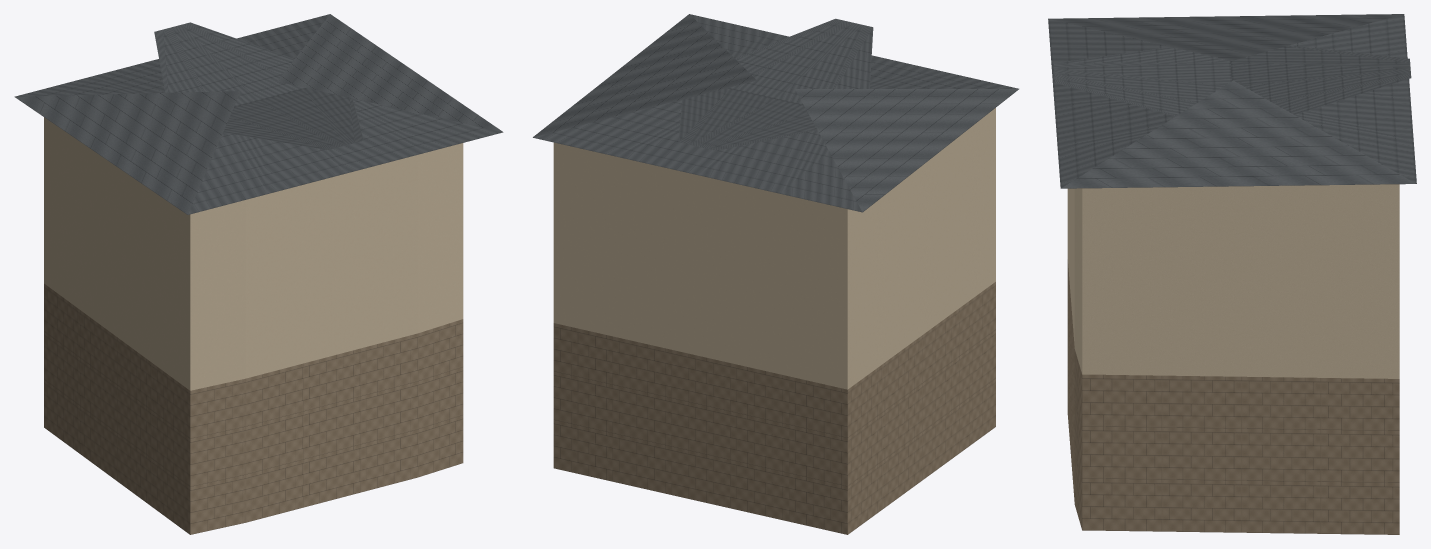
The model's file is bld_c37_-27_437.gltf.
3 renders of one model, left to right at view 1: azimuth 30°, elevation 25°; view 2: azimuth 150°, elevation 25°; view 3: azimuth 270°, elevation 25°, orthographic. The views are drawn at different scales.
Parts seen in each view (by area): view 1: bld_c37_-27_437; view 2: bld_c37_-27_437; view 3: bld_c37_-27_437.
Part boxes in pixels (x1=…): bld_c37_-27_437: x1=14, y1=14, x2=503, y2=534; bld_c37_-27_437: x1=533, y1=14, x2=1018, y2=534; bld_c37_-27_437: x1=1048, y1=14, x2=1416, y2=534.
Bounding box in the file's own units: 12.25 × 12.7 × 10.93.
Materials: 3 (3 with a texture image).
